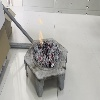fire: (39, 18, 43, 47)
